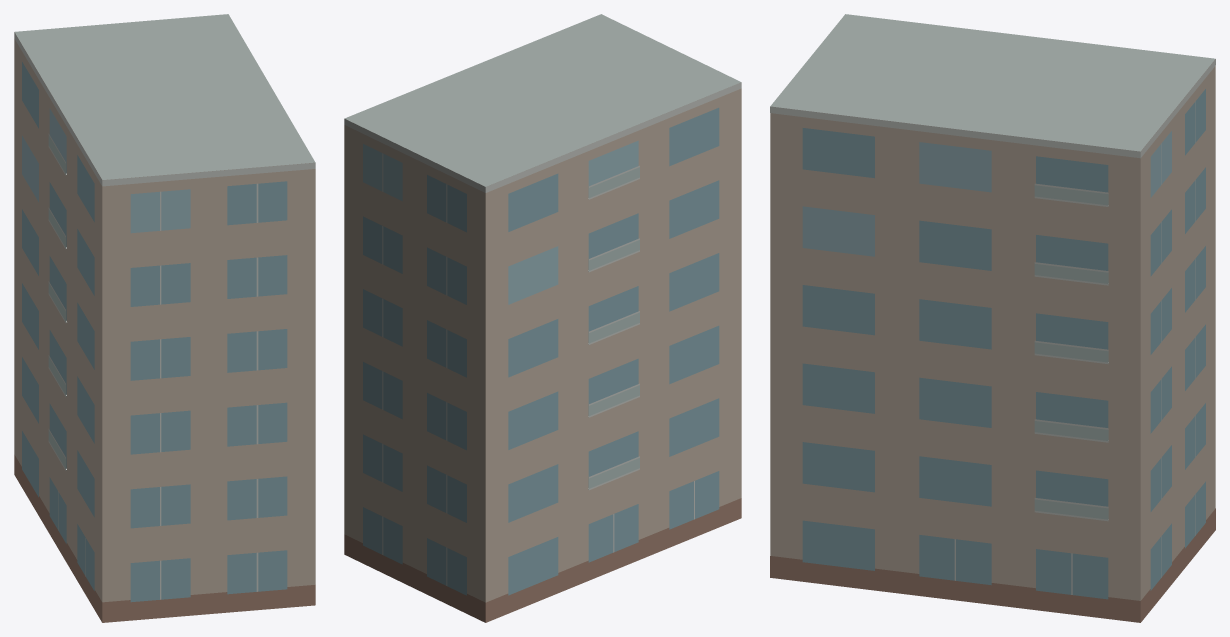
The model's file is survey-upis-32871913.glb.
3 views of the same model, side by side, from view 1: azimuth 30°, elevation 25°; view 2: azimuth 150°, elevation 25°; view 3: azimuth 270°, elevation 25° (orthographic). The views are drawn at different scales.
Visible parts, largest first — view 1: survey-upis-32871913.tmp; view 2: survey-upis-32871913.tmp; view 3: survey-upis-32871913.tmp.
Boxes of the visible parts, x1=… form: survey-upis-32871913.tmp: x1=14, y1=14, x2=315, y2=622; survey-upis-32871913.tmp: x1=344, y1=14, x2=741, y2=622; survey-upis-32871913.tmp: x1=770, y1=14, x2=1215, y2=622.
Size of the model in its own units: 10.74 by 17.15 by 14.71.
